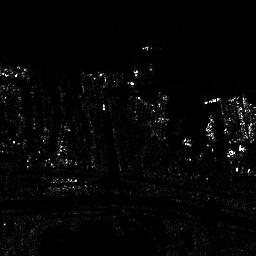ship: (203, 98, 223, 104)
